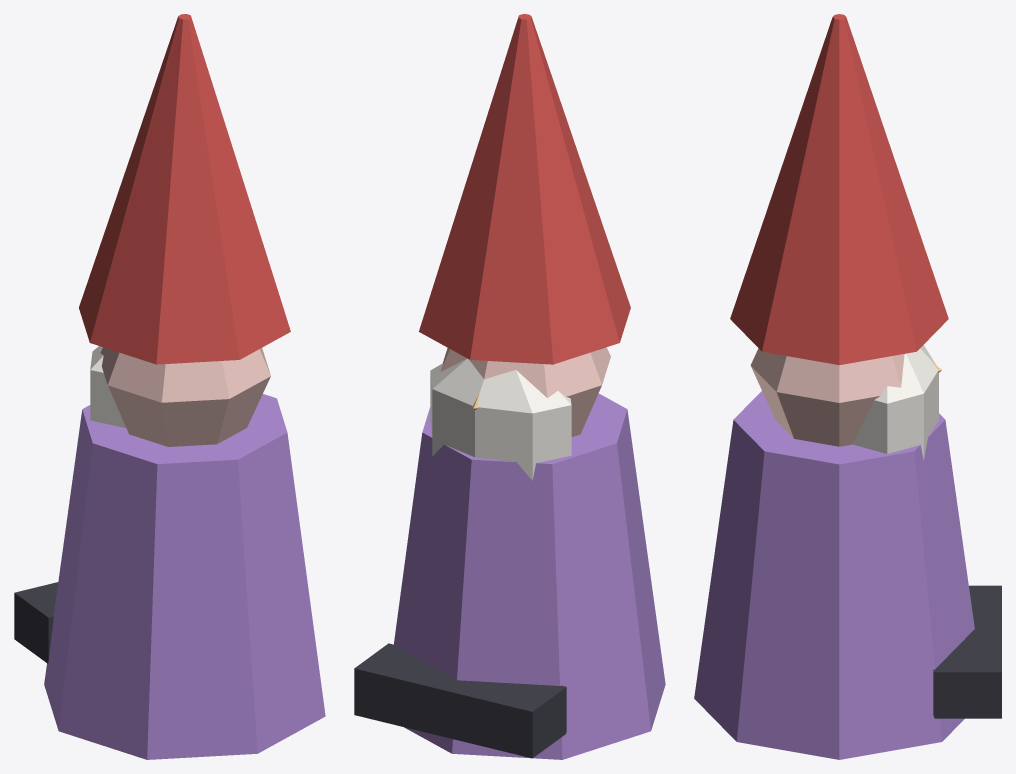
Rendered from deco_gnome.obj.
3 renders of one model, left to right at view 1: azimuth 30°, elevation 25°; view 2: azimuth 150°, elevation 25°; view 3: azimuth 270°, elevation 25°, orthographic.
Visible parts, largest first — view 1: deco_gnome; view 2: deco_gnome; view 3: deco_gnome.
Part boxes in pixels (box(x1,y1,x2,y2)): deco_gnome: box(14, 14, 325, 759); deco_gnome: box(354, 14, 665, 759); deco_gnome: box(694, 14, 1001, 759).
Size of the model in its own units: 0.017 by 0.044 by 0.018.
1 material, 1 textured.
